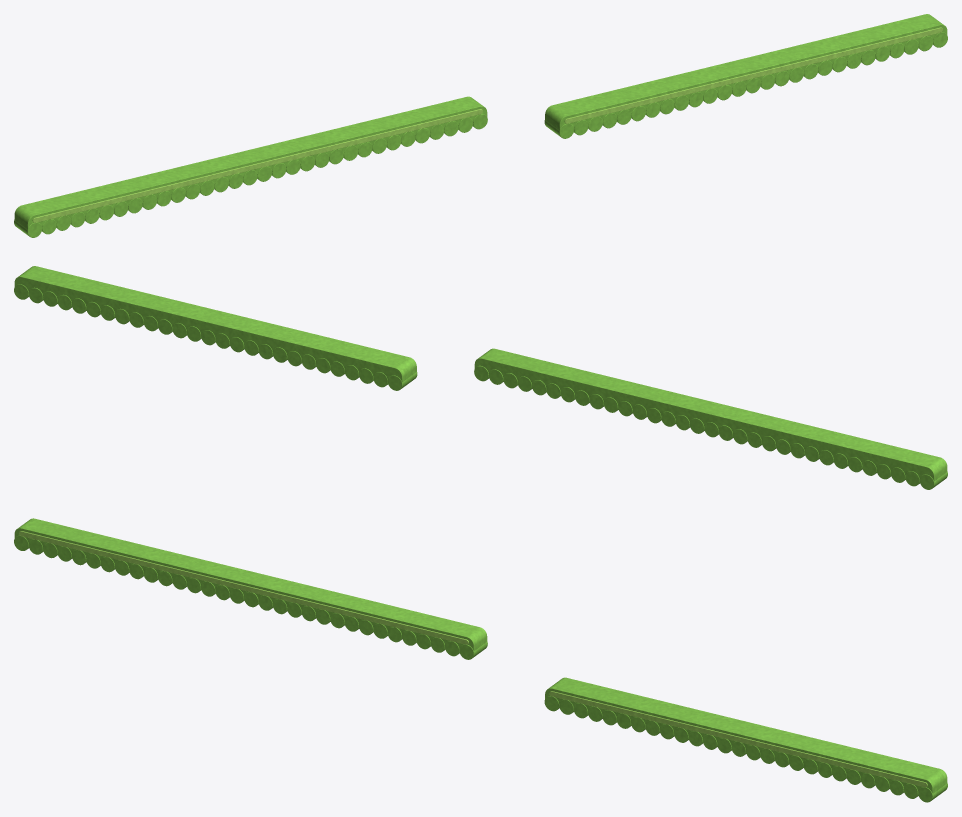
The model's file is gras_level3.glb.
3 views of the same model, one above another, from view 1: azimuth 30°, elevation 25°; view 2: azimuth 150°, elevation 25°; view 3: azimuth 330°, elevation 25° (orthographic).
Visible parts, largest first — view 1: gras_L3_01, gras_L3_02; view 2: gras_L3_01, gras_L3_02; view 3: gras_L3_01, gras_L3_02.
Part boxes in pixels (<box>): gras_L3_01: <box>14,96,487,237</box>; gras_L3_02: <box>544,14,947,138</box>; gras_L3_01: <box>474,348,947,489</box>; gras_L3_02: <box>14,266,417,390</box>; gras_L3_01: <box>14,518,487,659</box>; gras_L3_02: <box>544,677,947,802</box>.
Bounding box in the file's own units: 38.43 × 2.1 × 1.13.
Materials: 2 (2 with a texture image).
